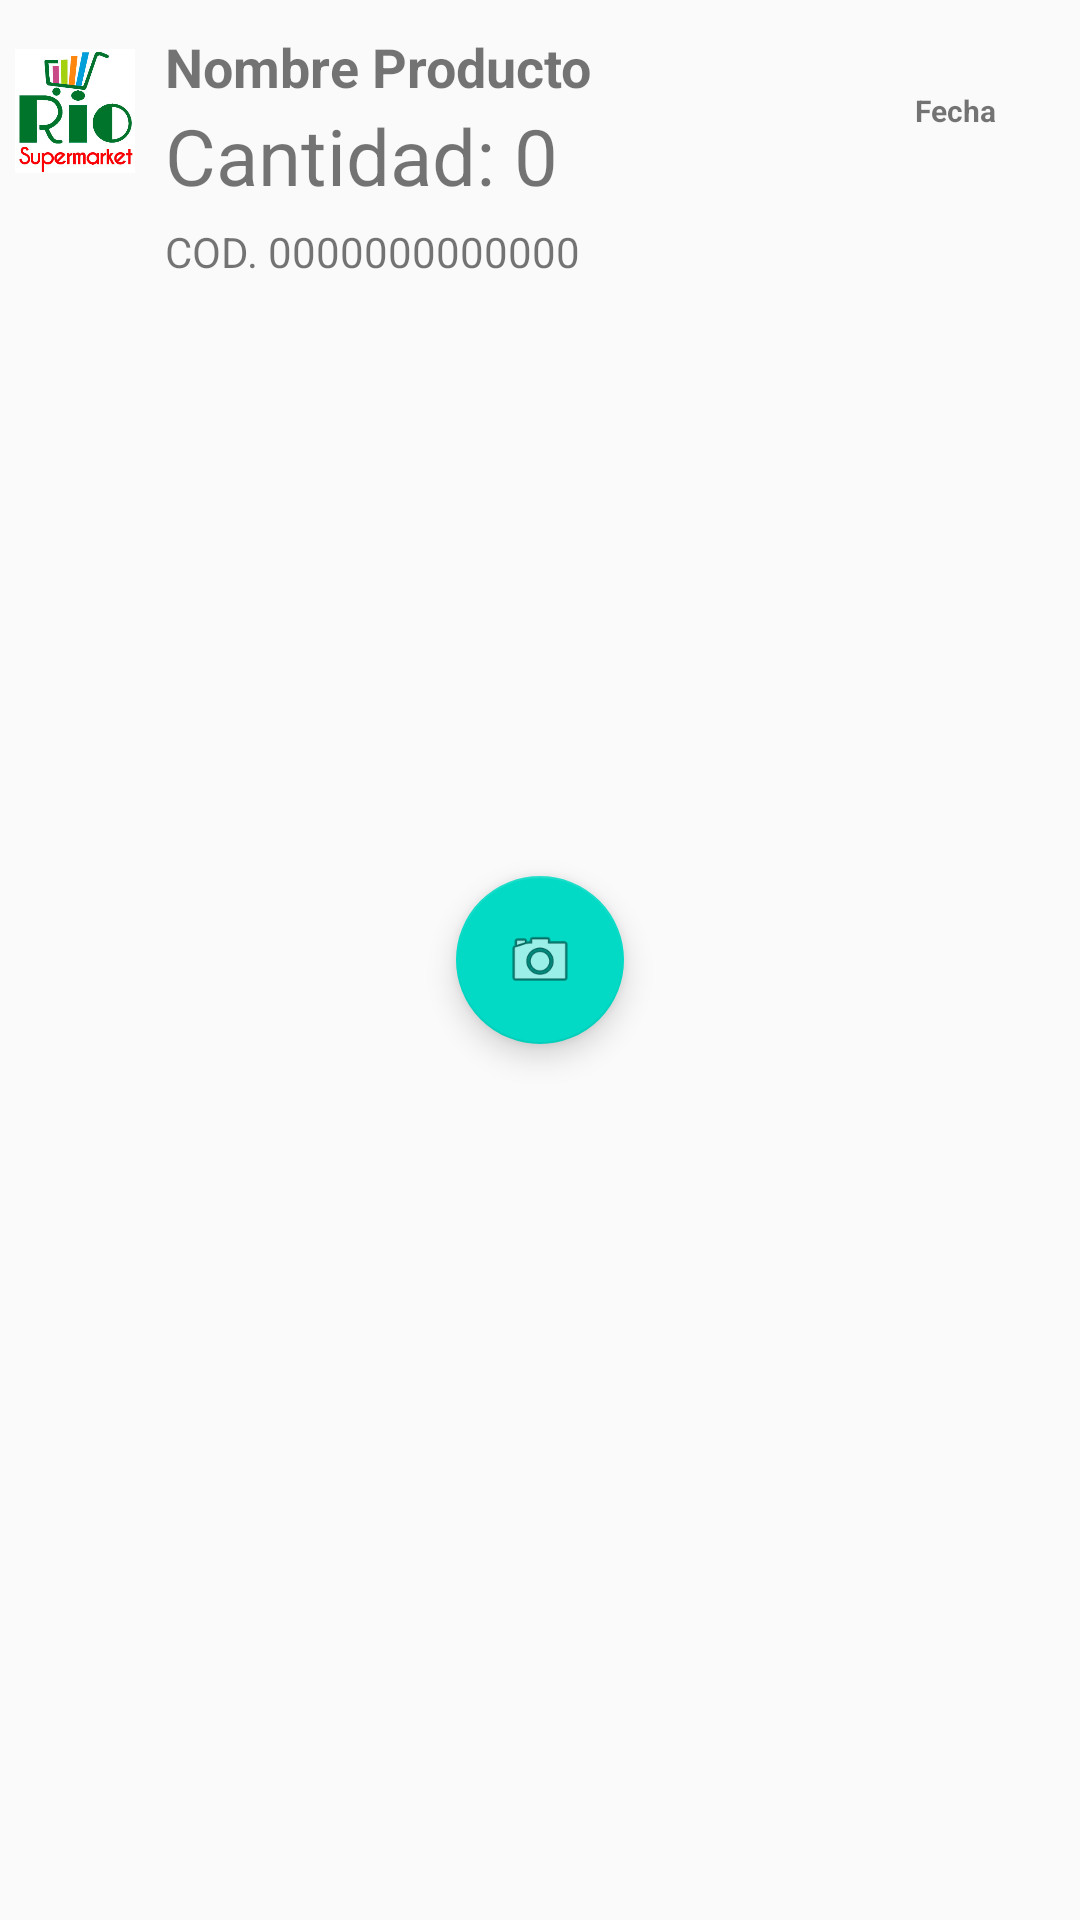

Named icons in this screenshot (1080 × 1920) and their bounding boxes, (x1, y1, x2, y2):
camera: (456, 876, 624, 1044)
